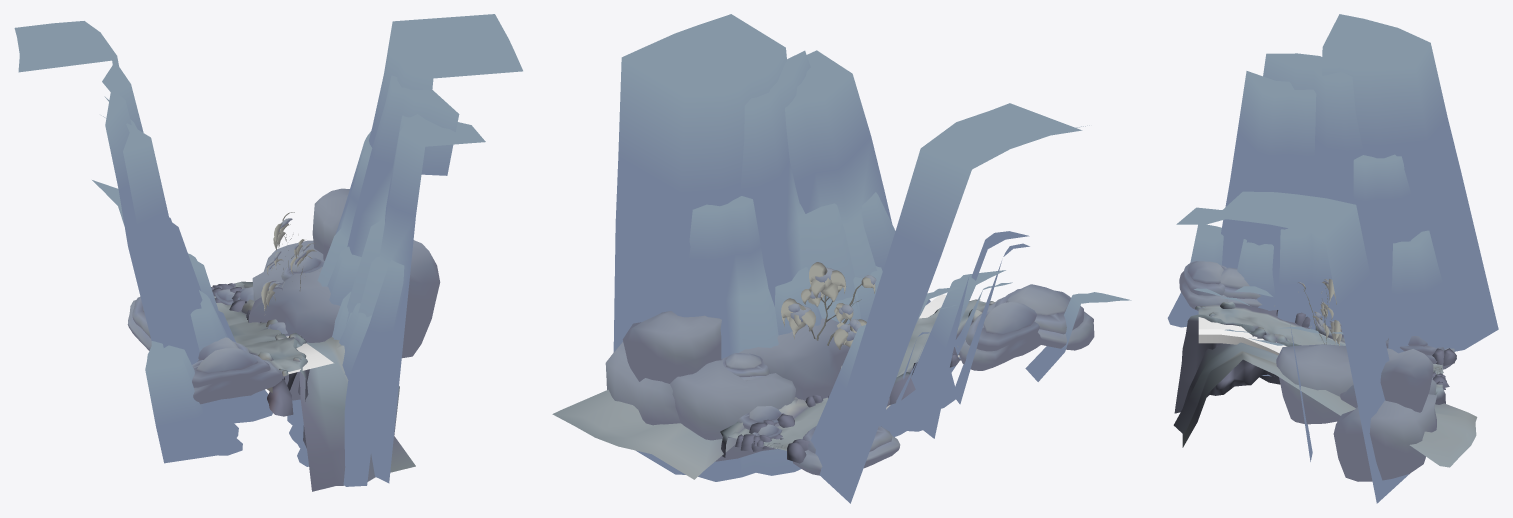
Rendered from Arctic_Narrows_Right_Start_A.glb.
The picture shows the model from 3 angles, left to right: view 1: azimuth 30°, elevation 25°; view 2: azimuth 150°, elevation 25°; view 3: azimuth 270°, elevation 25°; orthographic projection. The views are drawn at different scales.
Visible parts, largest first — view 1: Arctic_Narrows_Right_Start_A; view 2: Arctic_Narrows_Right_Start_A; view 3: Arctic_Narrows_Right_Start_A, inv_fill.
Part boxes in pixels (x1,y1,x2,y2): Arctic_Narrows_Right_Start_A: (14, 14, 522, 491); Arctic_Narrows_Right_Start_A: (552, 14, 1131, 503); Arctic_Narrows_Right_Start_A: (1167, 14, 1498, 503); inv_fill: (1198, 317, 1286, 355).
Size of what is drawn, in the model's own units: 26.35 by 21.89 by 20.39.
